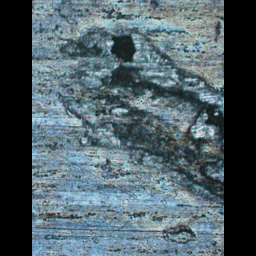d: (54, 24, 224, 201), (158, 222, 199, 244)
